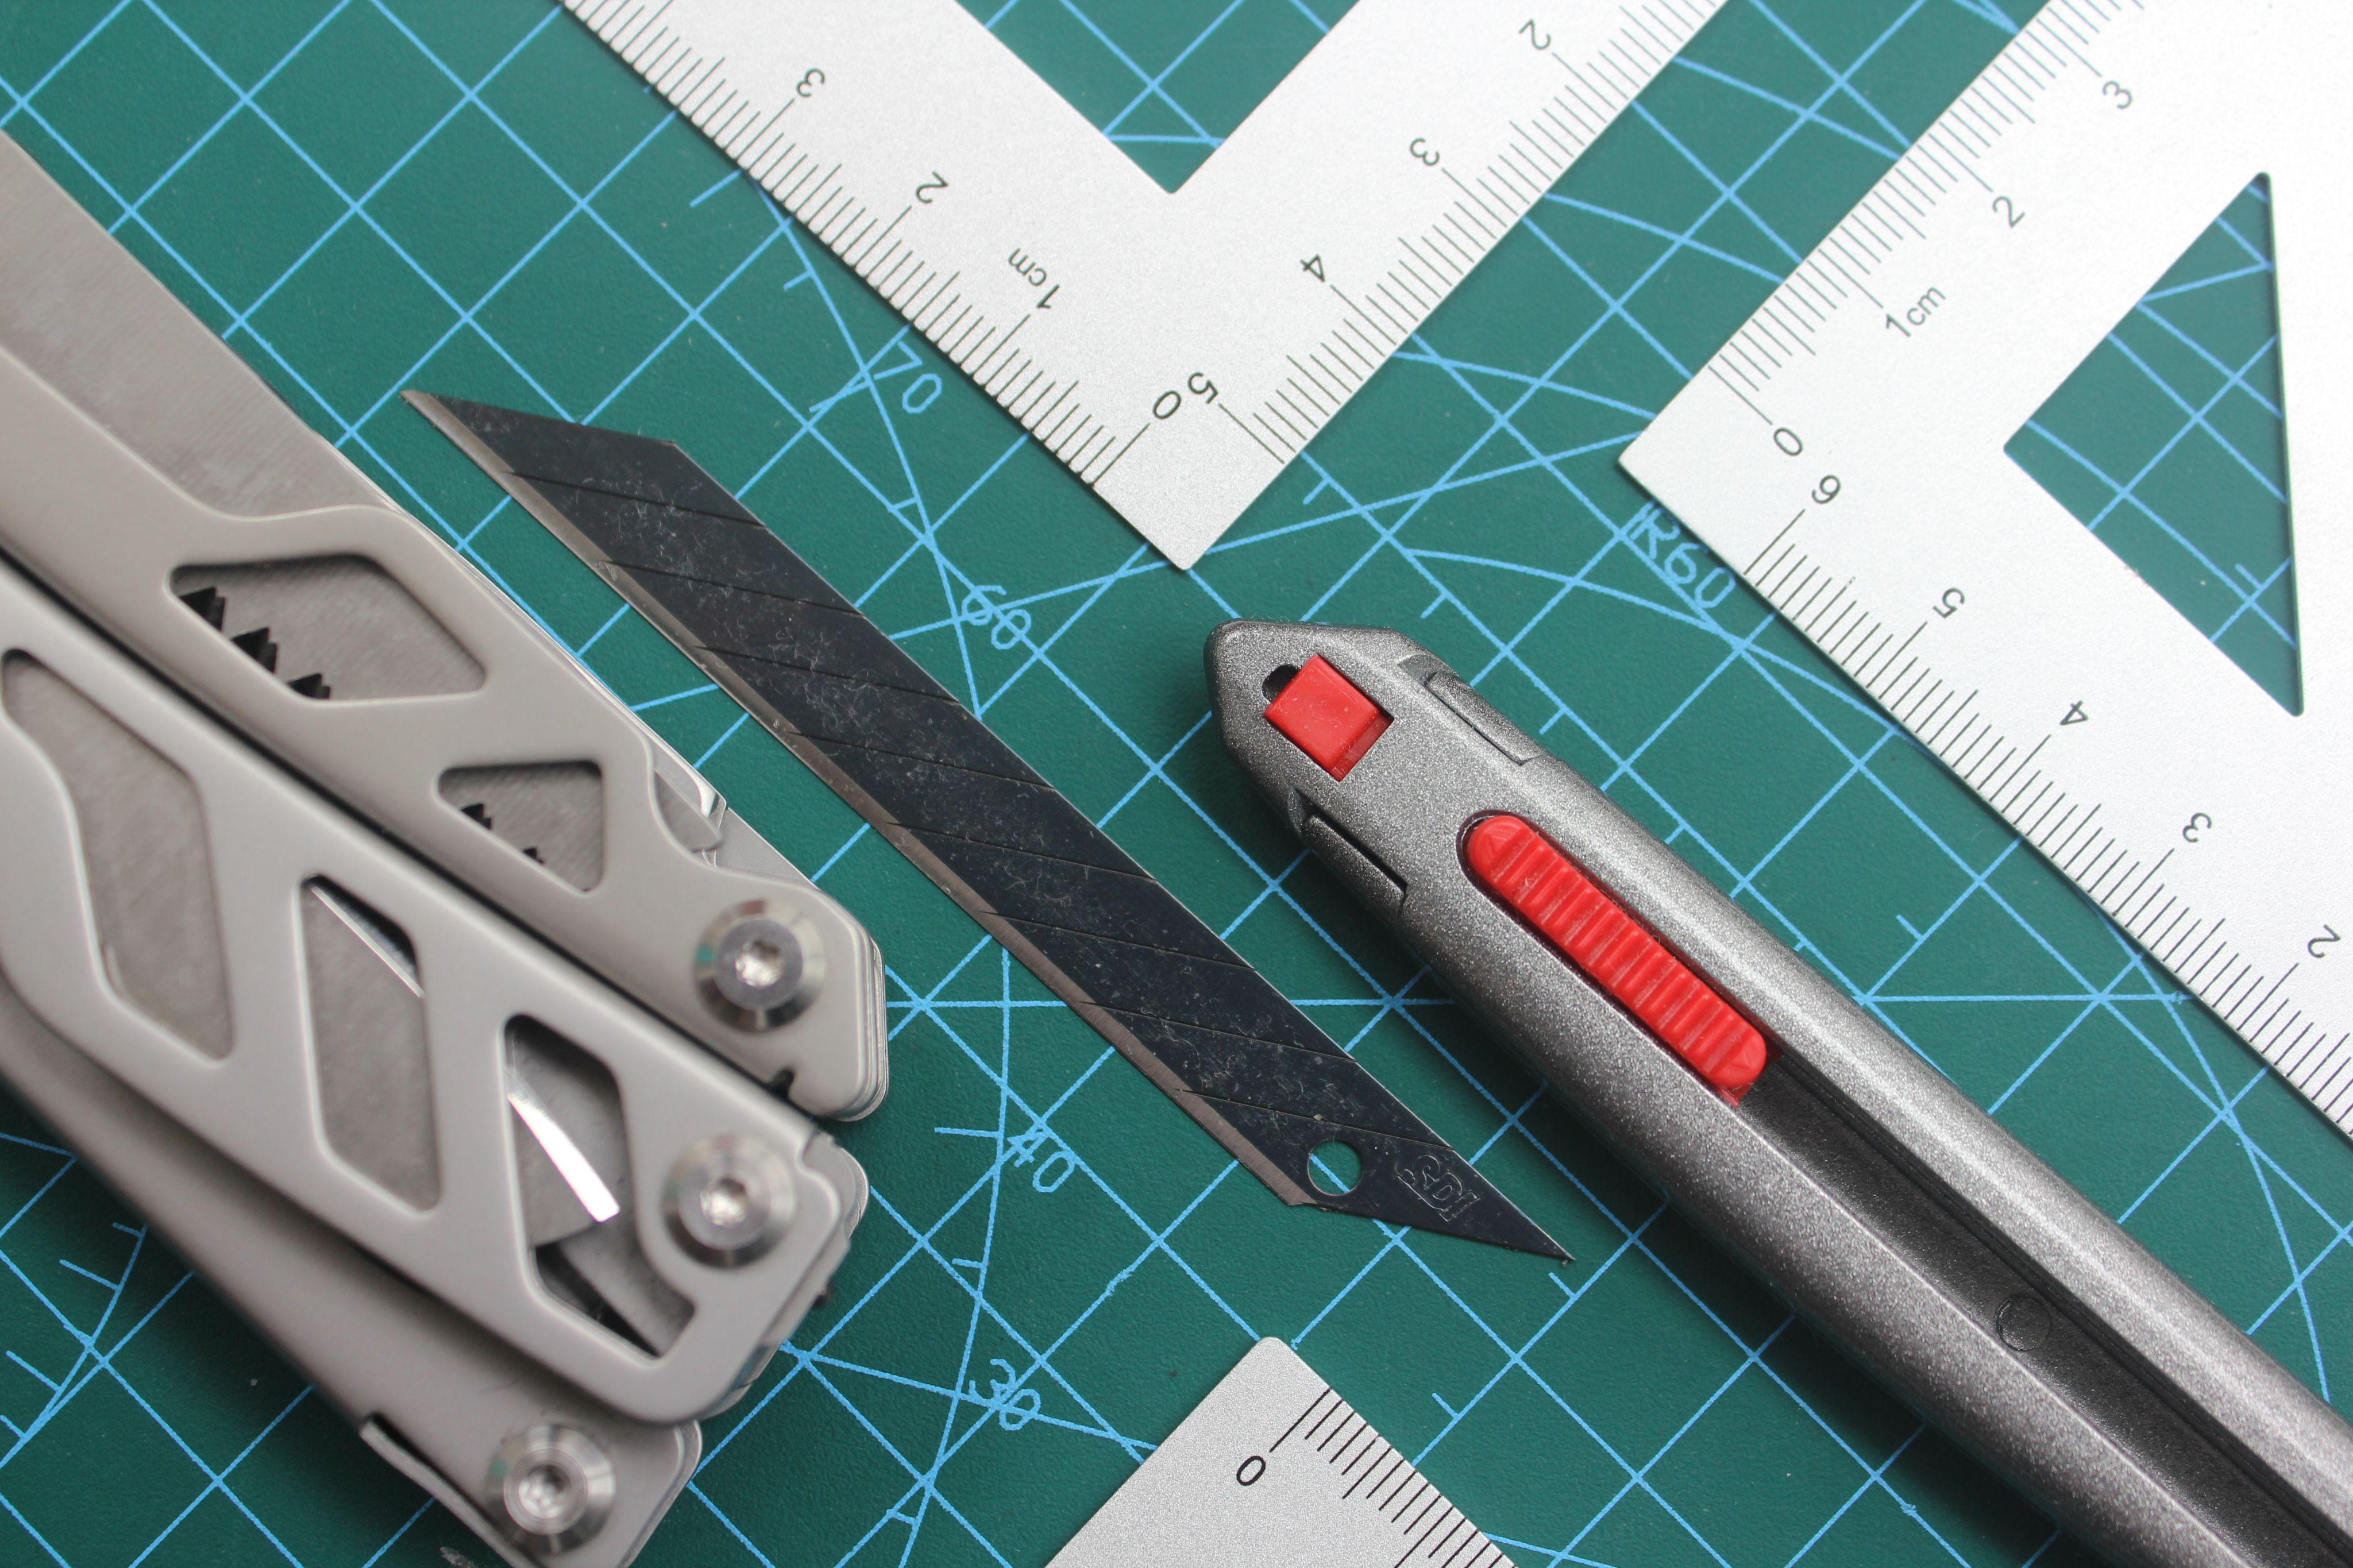cutter: (1193, 607, 2353, 1568), (385, 380, 1571, 1260)
